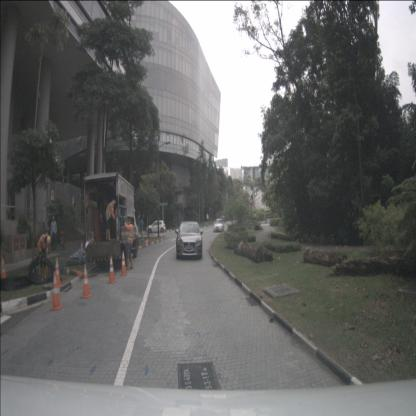human-pedestrian-adult: (51, 215, 58, 254), (44, 218, 50, 255), (58, 231, 66, 251), (140, 218, 144, 241)
movable_object-trafficcone: (49, 271, 64, 311), (80, 263, 94, 299), (106, 254, 118, 284), (53, 257, 63, 288), (120, 250, 128, 276), (0, 254, 8, 280), (78, 241, 84, 261), (145, 238, 150, 245)
vehicle-car: (176, 222, 203, 260), (146, 220, 166, 233), (214, 218, 224, 233)
vehicle-truck: (83, 172, 139, 268)
